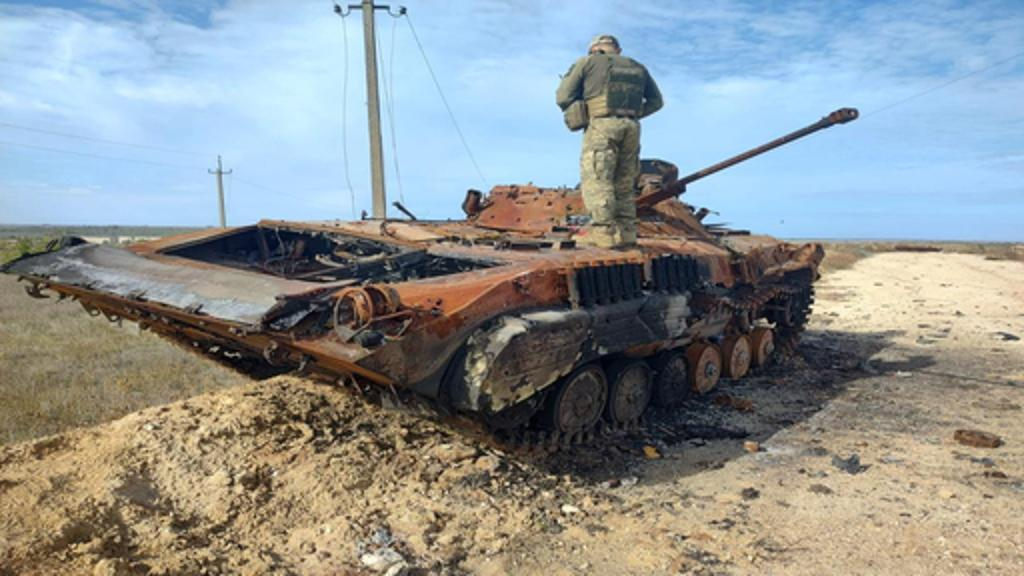APC-IFV: (0, 98, 840, 456)
